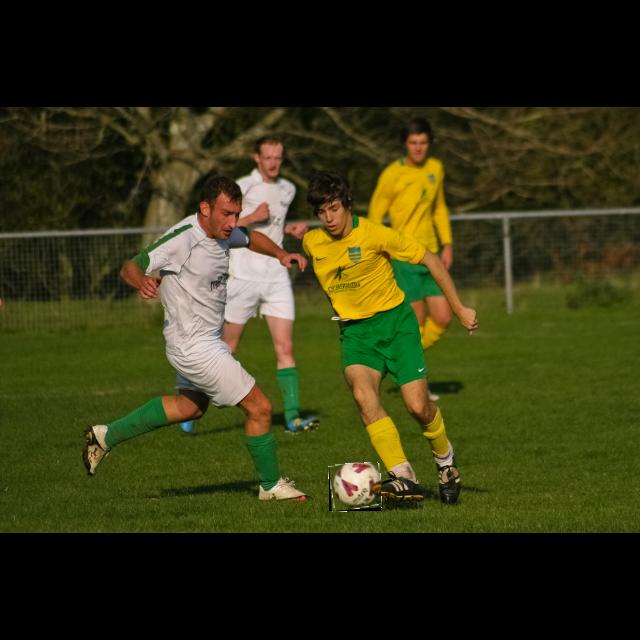Football: (329, 463, 381, 511)
